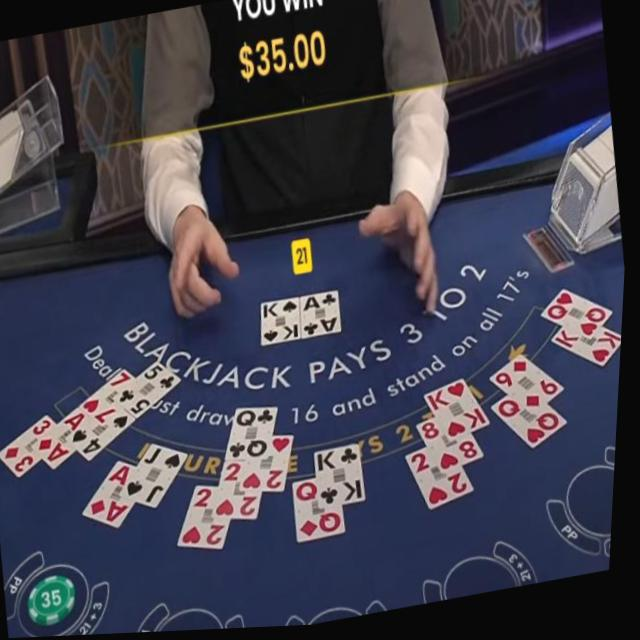Card-2: (410, 451, 479, 515), (183, 487, 236, 552), (246, 438, 298, 495), (219, 463, 267, 522)
Card-3: (2, 414, 61, 478)
Card-4: (71, 409, 140, 464)
Card-5: (119, 361, 185, 420)
Card-7: (83, 369, 139, 427)
Card-8: (420, 421, 489, 477)
Card-9: (494, 358, 568, 420)
Card-A: (36, 408, 95, 471), (88, 461, 141, 530), (304, 293, 345, 341)
Card-J: (125, 444, 193, 510)
Card-K: (428, 381, 495, 445), (319, 448, 371, 510), (555, 332, 625, 373), (264, 300, 304, 348)
Card-Q: (496, 399, 572, 454), (544, 294, 616, 345), (298, 480, 351, 546), (230, 409, 282, 462)
